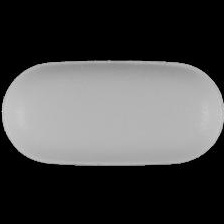63629-5436: (0, 0, 224, 224)
